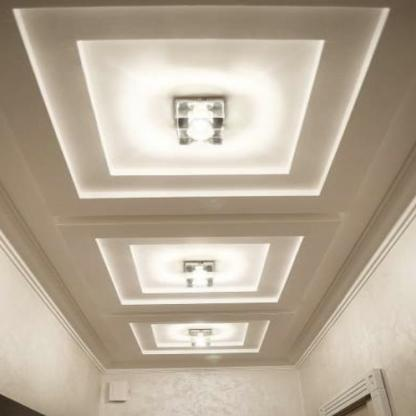Gypsum Board: (0, 3, 416, 369)
